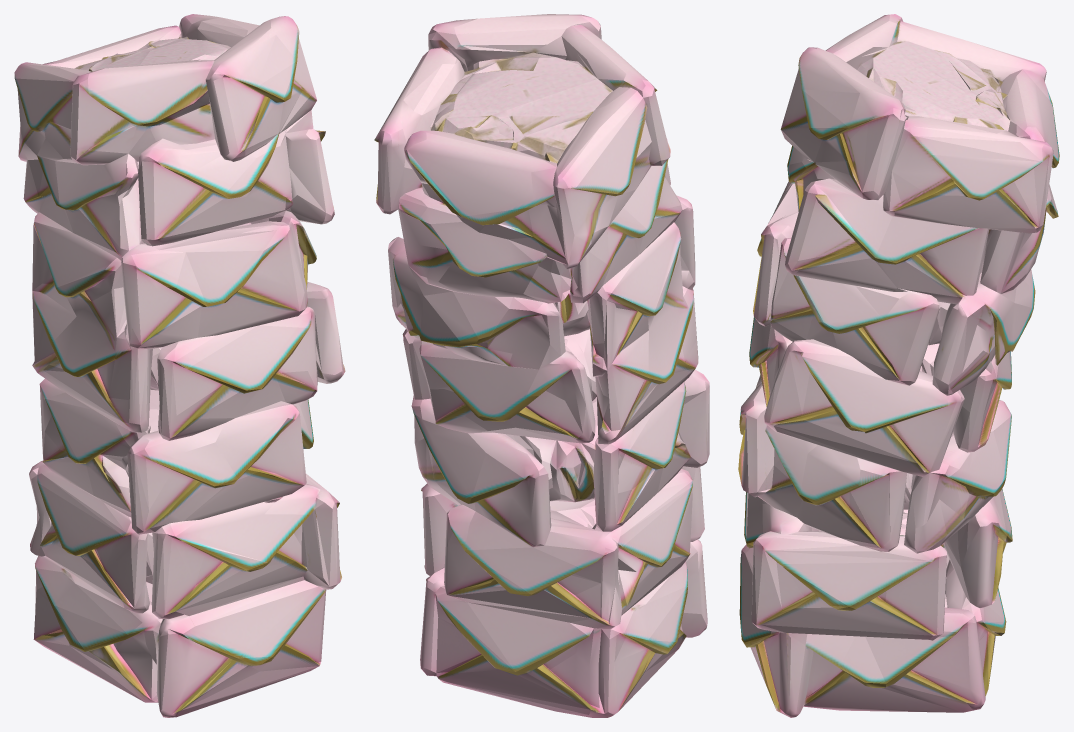
File: spam-alley.glb
The picture shows the model from 3 angles, left to right: view 1: azimuth 30°, elevation 25°; view 2: azimuth 150°, elevation 25°; view 3: azimuth 270°, elevation 25°; orthographic projection. The views are drawn at different scales.
Size of the model in its own units: 0.7848 by 1.9 by 0.8813.
Materials: 1 (1 with a texture image).
